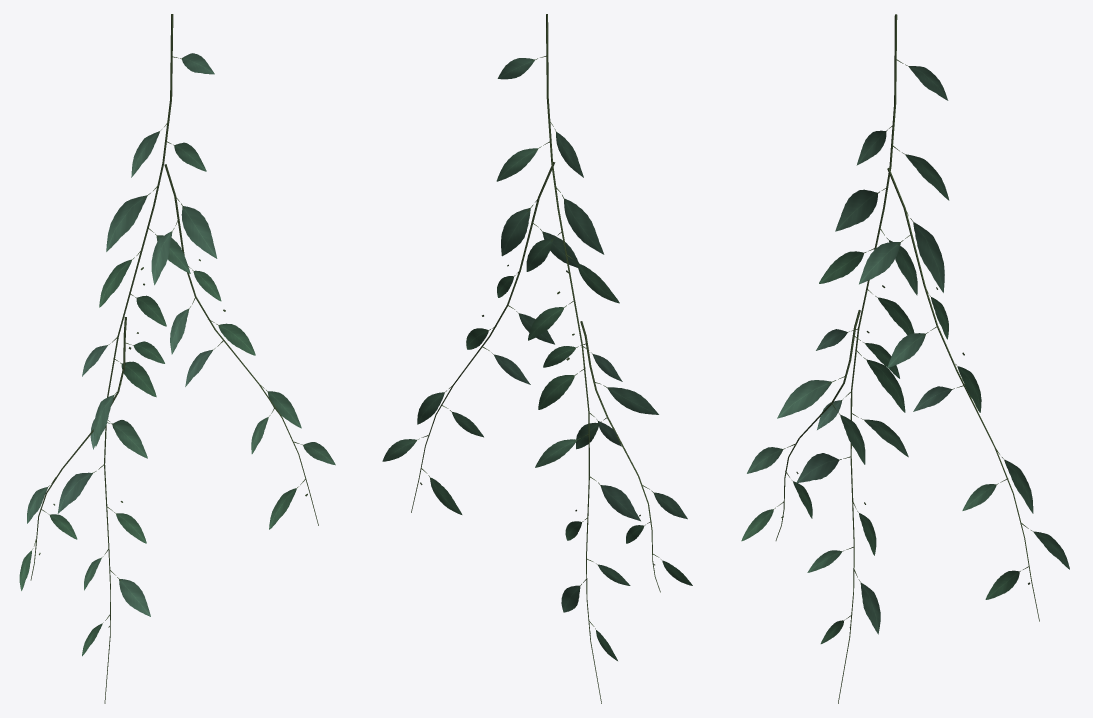
The model's file is Vine2.fbx.
3 renders of one model, left to right at view 1: azimuth 30°, elevation 25°; view 2: azimuth 150°, elevation 25°; view 3: azimuth 330°, elevation 25°, orthographic. The views are drawn at different scales.
Visible parts, largest first — view 1: Vine_B_LooseCascade; view 2: Vine_B_LooseCascade; view 3: Vine_B_LooseCascade.
Part boxes in pixels (x1,y1,x2,y2): Vine_B_LooseCascade: (19, 14, 335, 703); Vine_B_LooseCascade: (382, 14, 692, 703); Vine_B_LooseCascade: (741, 14, 1069, 703).
Bounding box in the file's own units: 75.75 × 148 × 16.87.
